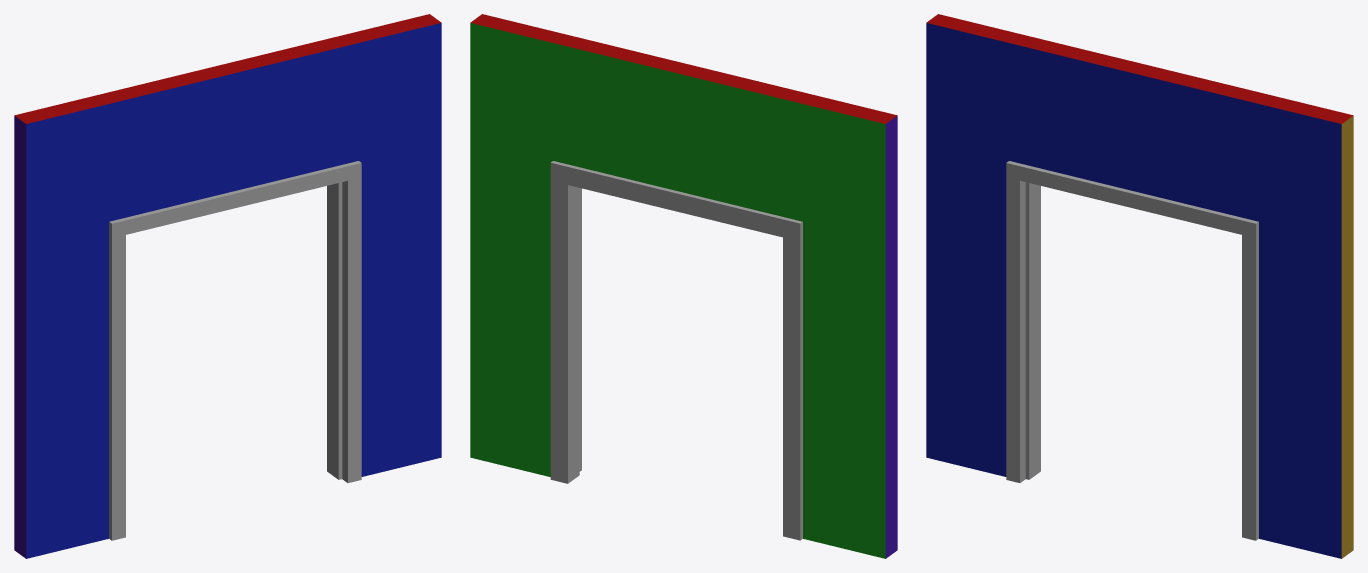
The model's file is Wall_Door_02b.fbx.
The picture shows the model from 3 angles, left to right: view 1: azimuth 30°, elevation 25°; view 2: azimuth 150°, elevation 25°; view 3: azimuth 330°, elevation 25°; orthographic projection.
Parts seen in each view (by area): view 1: Wall_Door_02b; view 2: Wall_Door_02b; view 3: Wall_Door_02b.
Part boxes in pixels (x1,y1,x2,y2): Wall_Door_02b: (14,14,441,558); Wall_Door_02b: (470,14,897,558); Wall_Door_02b: (926,14,1353,558).
Size of the model in its own units: 3 by 0.2177 by 3.
